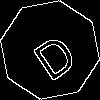D: (25, 25, 80, 83)
